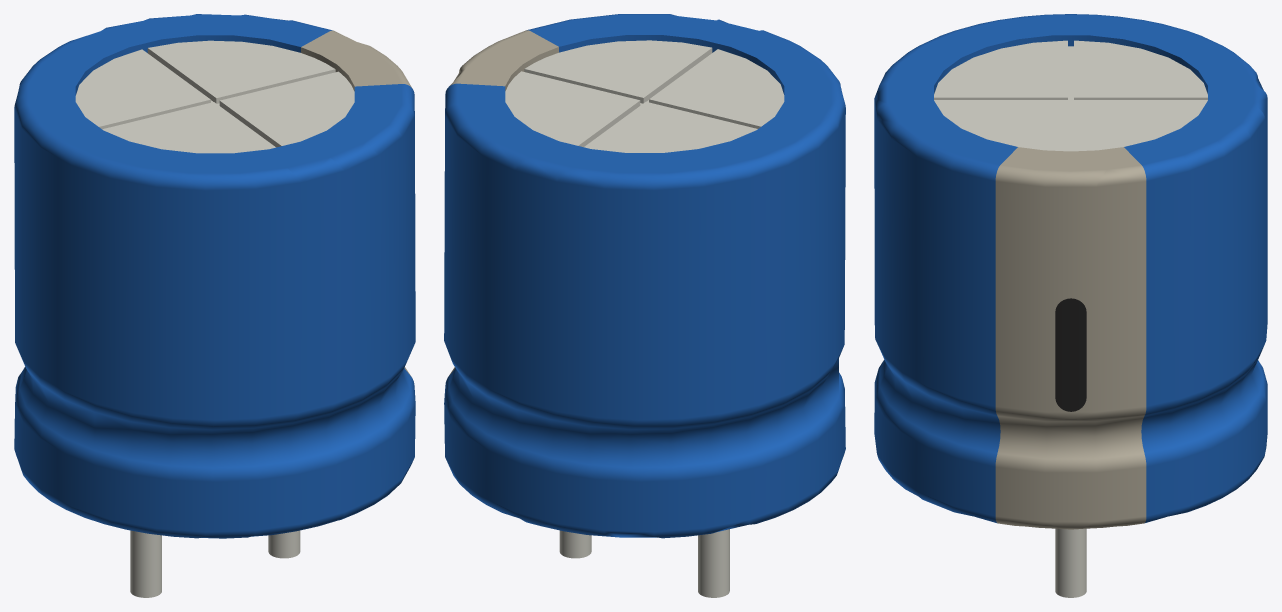
Rendered from CP_Radial_D6.3mm_P2.50mm.glb.
3 renders of one model, left to right at view 1: azimuth 30°, elevation 25°; view 2: azimuth 150°, elevation 25°; view 3: azimuth 270°, elevation 25°, orthographic. The views are drawn at different scales.
Parts seen in each view (by area): view 1: =>[0:1:1:3]; view 2: =>[0:1:1:3]; view 3: =>[0:1:1:3].
Part boxes in pixels (x1,y1,x2,y2): =>[0:1:1:3]: (14,14,415,597); =>[0:1:1:3]: (444,14,845,597); =>[0:1:1:3]: (874,14,1267,597).
Bounding box in the file's own units: 0.0063 × 0.0083 × 0.00628.
